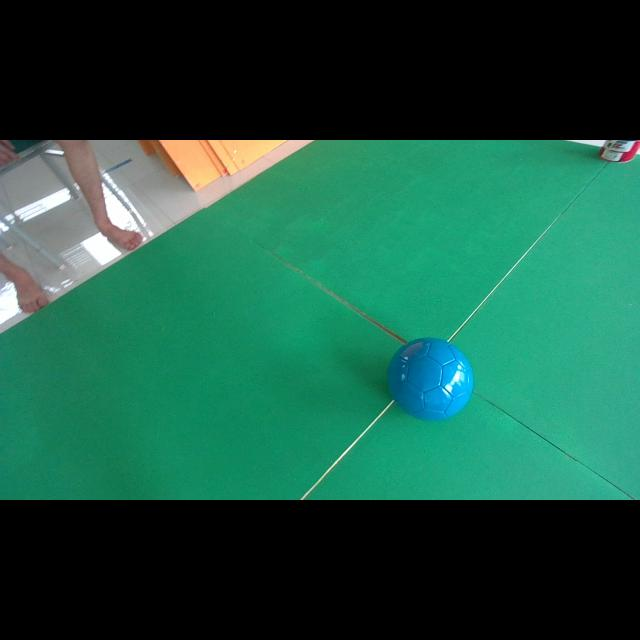B: (388, 338, 474, 419)
